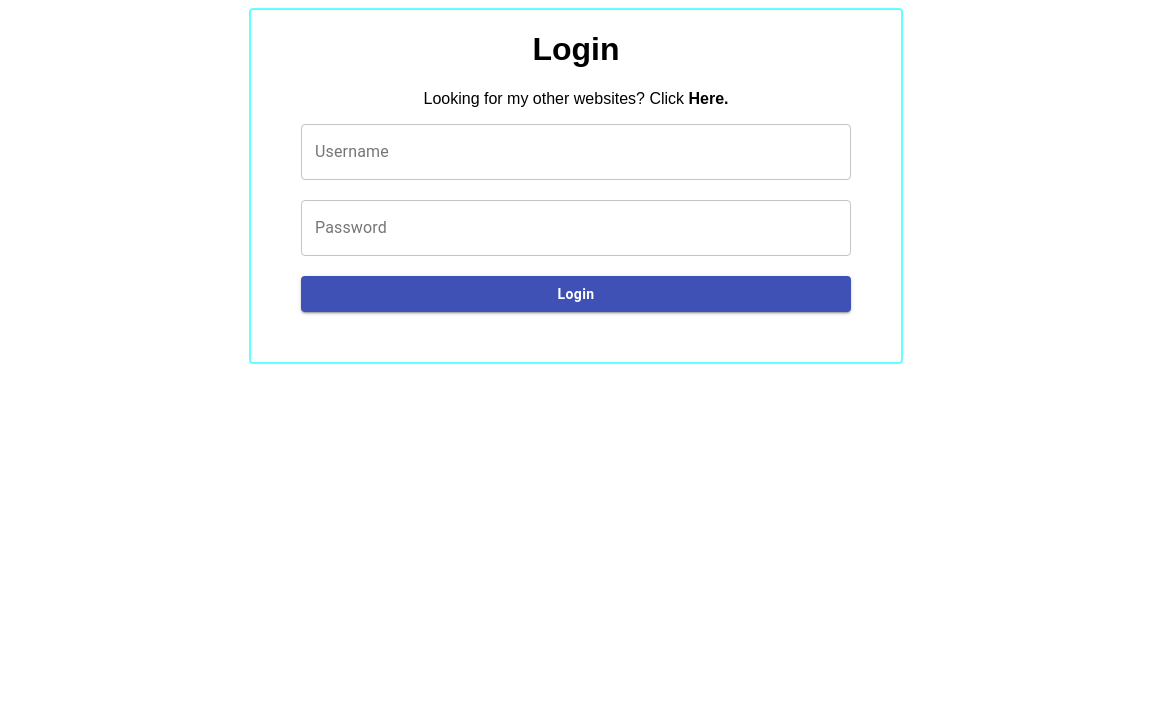
Test: logged-in-with-swimmer-role › opens the NavDropdown if you click the down arrow icon, and both urls are on there
In the field labelled "Username": {"x": 576, "y": 152} [301, 124, 851, 180], type "Swimmer"
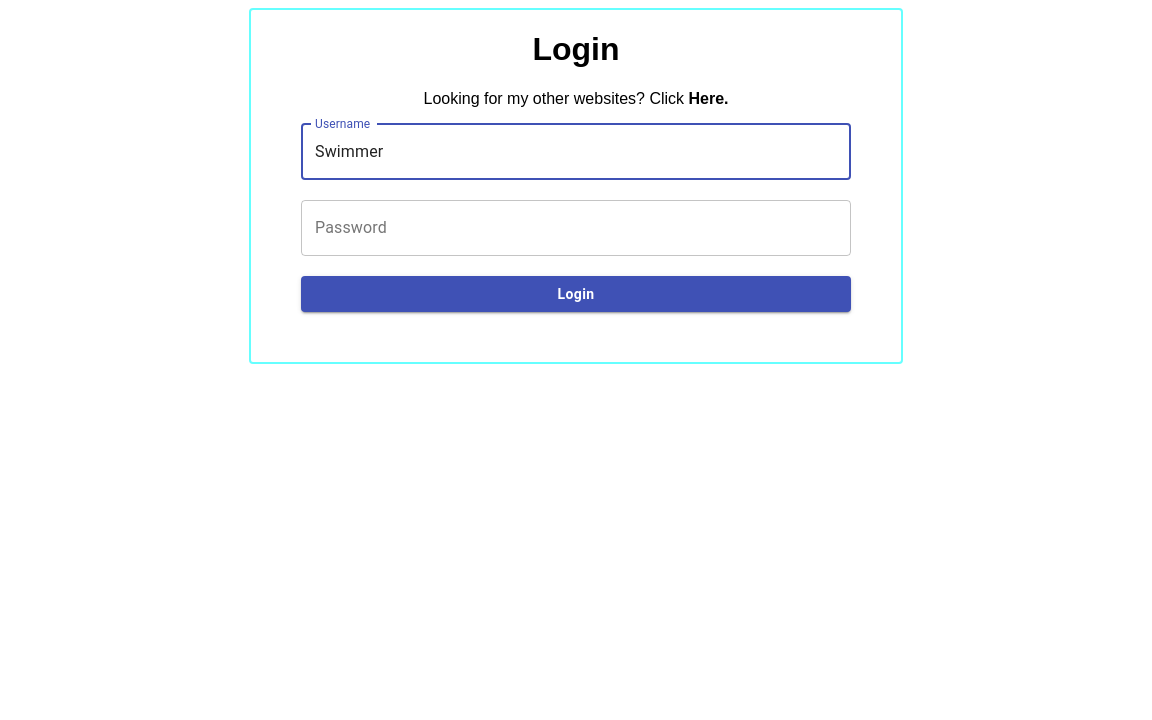
In the field labelled "Password": {"x": 576, "y": 228} [301, 200, 851, 256], type "1"
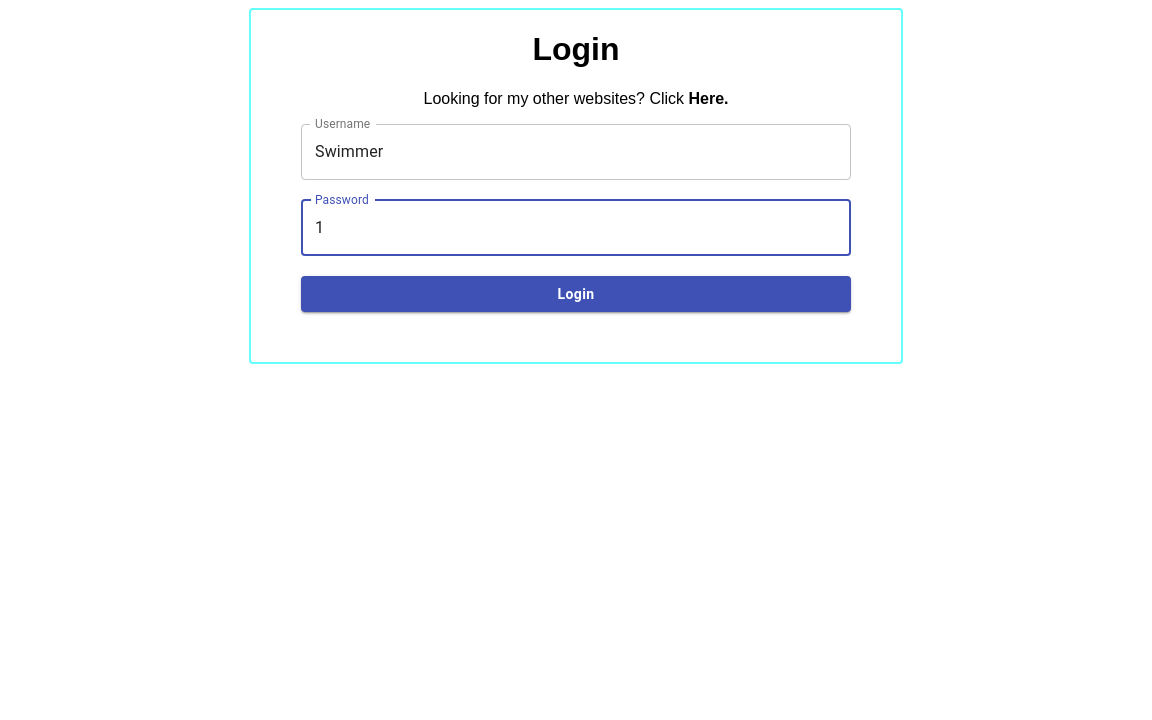
Click the button "Login": {"x": 576, "y": 295} [301, 276, 851, 313]
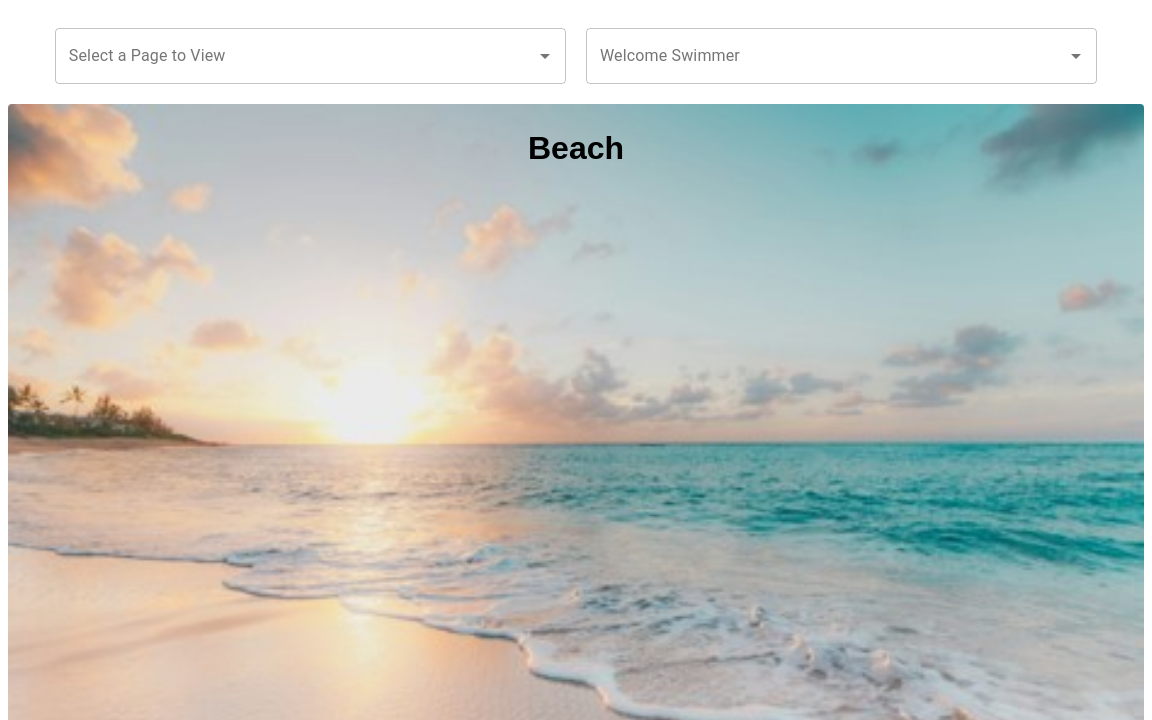
Click the button named "Open" in the row of "Select a Page to View": {"x": 545, "y": 56} [531, 42, 559, 70]
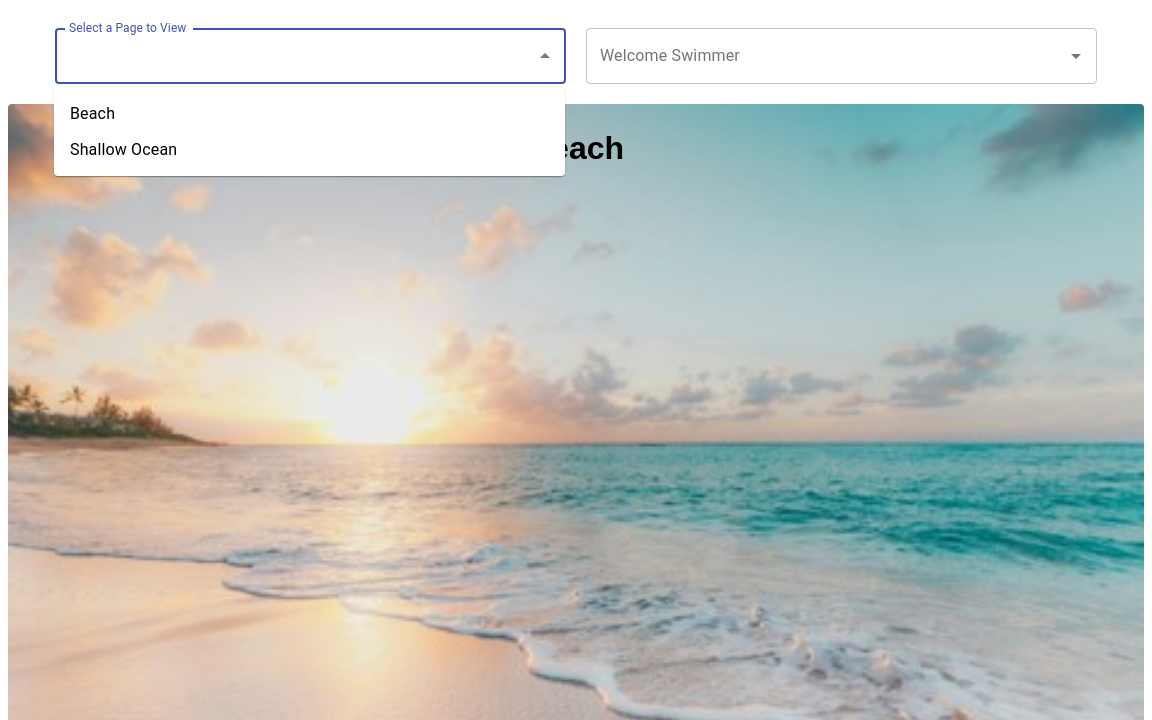
Check: the option "Beach" is shown, box [70, 104, 115, 123]
Check: the option "Shallow Ocean" is shown, box [70, 140, 177, 159]
